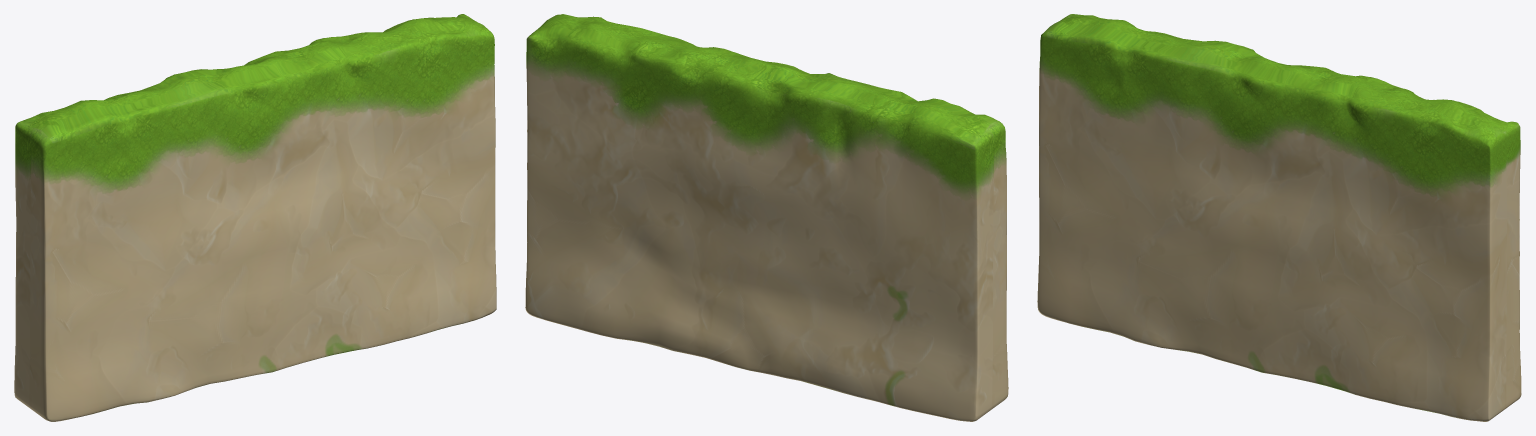
The model's file is sm_Main Wall 1 F.fbx.
3 renders of one model, left to right at view 1: azimuth 30°, elevation 25°; view 2: azimuth 150°, elevation 25°; view 3: azimuth 330°, elevation 25°, orthographic.
Parts seen in each view (by area): view 1: Main_Wall_1_Low; view 2: Main_Wall_1_Low; view 3: Main_Wall_1_Low.
Part boxes in pixels (x1,y1,x2,y2): Main_Wall_1_Low: [14, 14, 496, 421]; Main_Wall_1_Low: [525, 14, 1008, 421]; Main_Wall_1_Low: [1037, 14, 1521, 421].
Size of the model in its own units: 7.41 by 4.66 by 1.07.
